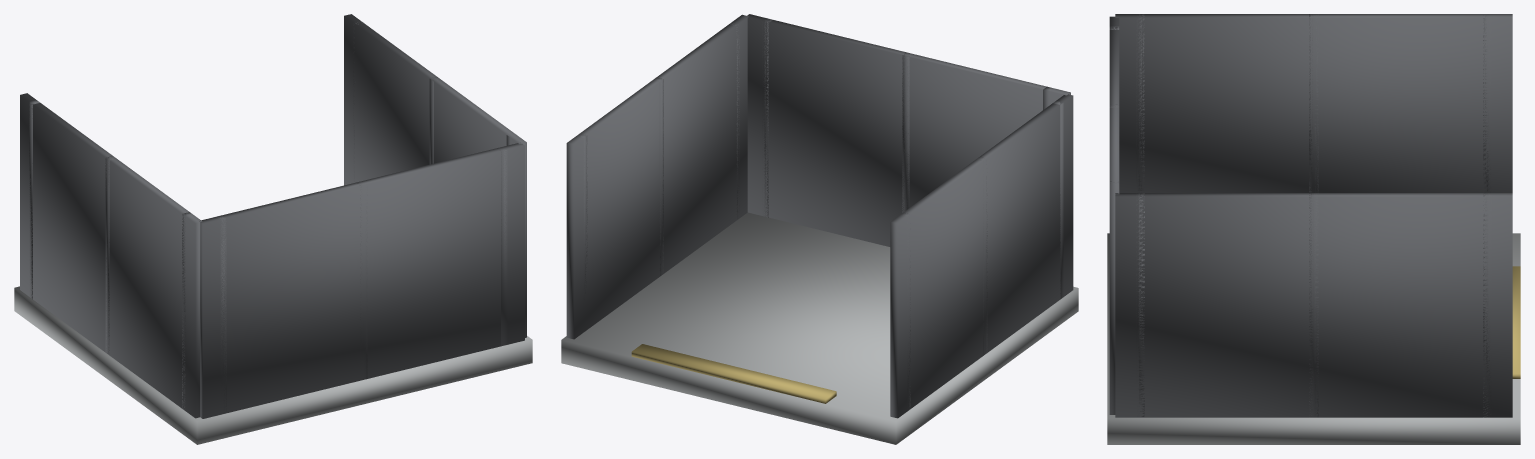
Rendered from floor_w180_d170_three.glb.
The picture shows the model from 3 angles, left to right: view 1: azimuth 30°, elevation 25°; view 2: azimuth 150°, elevation 25°; view 3: azimuth 270°, elevation 25°; orthographic projection. The views are drawn at different scales.
Parts seen in each view (by area): view 1: world; view 2: world; view 3: world.
Boxes of the visible parts, x1,y1,x2,y2 form: world: [14, 14, 532, 444]; world: [561, 14, 1078, 444]; world: [1107, 14, 1520, 444].
Size of the model in its own units: 1.8 by 1.12 by 1.7.
